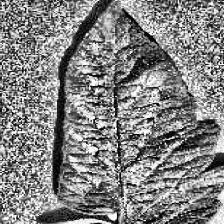spider mites: (45, 0, 224, 224)
